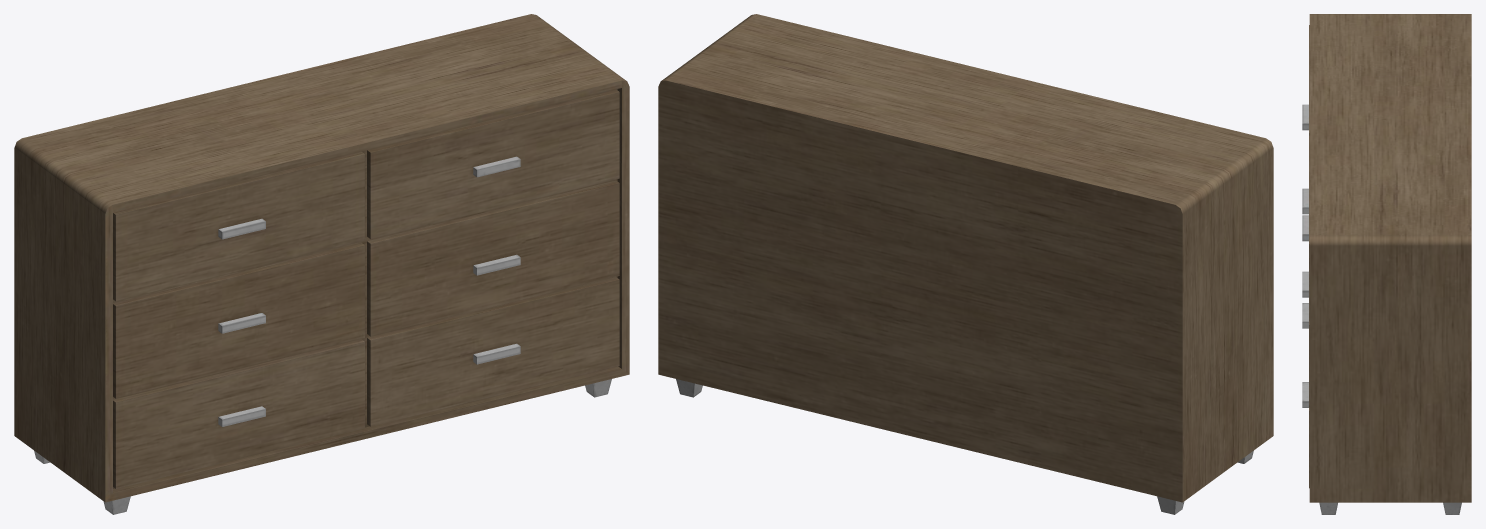
The model's file is Dresser.glb.
The picture shows the model from 3 angles, left to right: view 1: azimuth 30°, elevation 25°; view 2: azimuth 150°, elevation 25°; view 3: azimuth 270°, elevation 25°; orthographic projection. The views are drawn at different scales.
Parts seen in each view (by area): view 1: Dresser; view 2: Dresser; view 3: Dresser.
Boxes of the visible parts, x1,y1,x2,y2 form: Dresser: (14, 14, 629, 514); Dresser: (658, 14, 1273, 514); Dresser: (1302, 14, 1471, 514).
Bounding box in the file's own units: 2.18 × 1.26 × 0.6834.
Materials: 1 (1 with a texture image).
